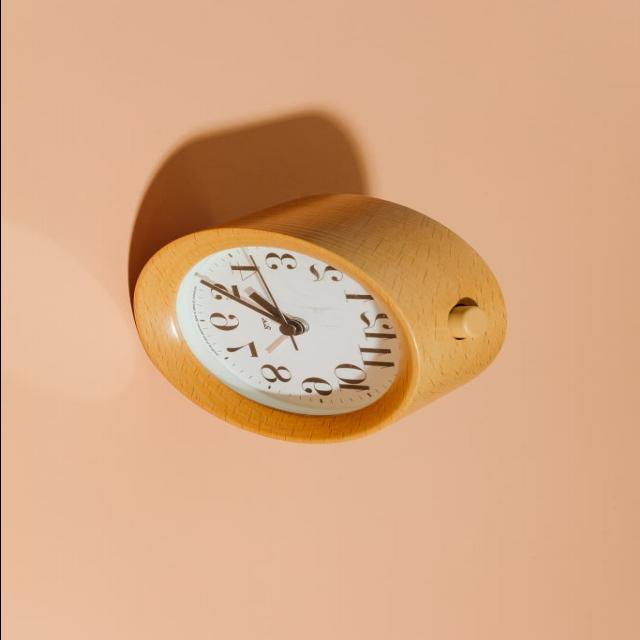clock: (124, 160, 420, 469)
